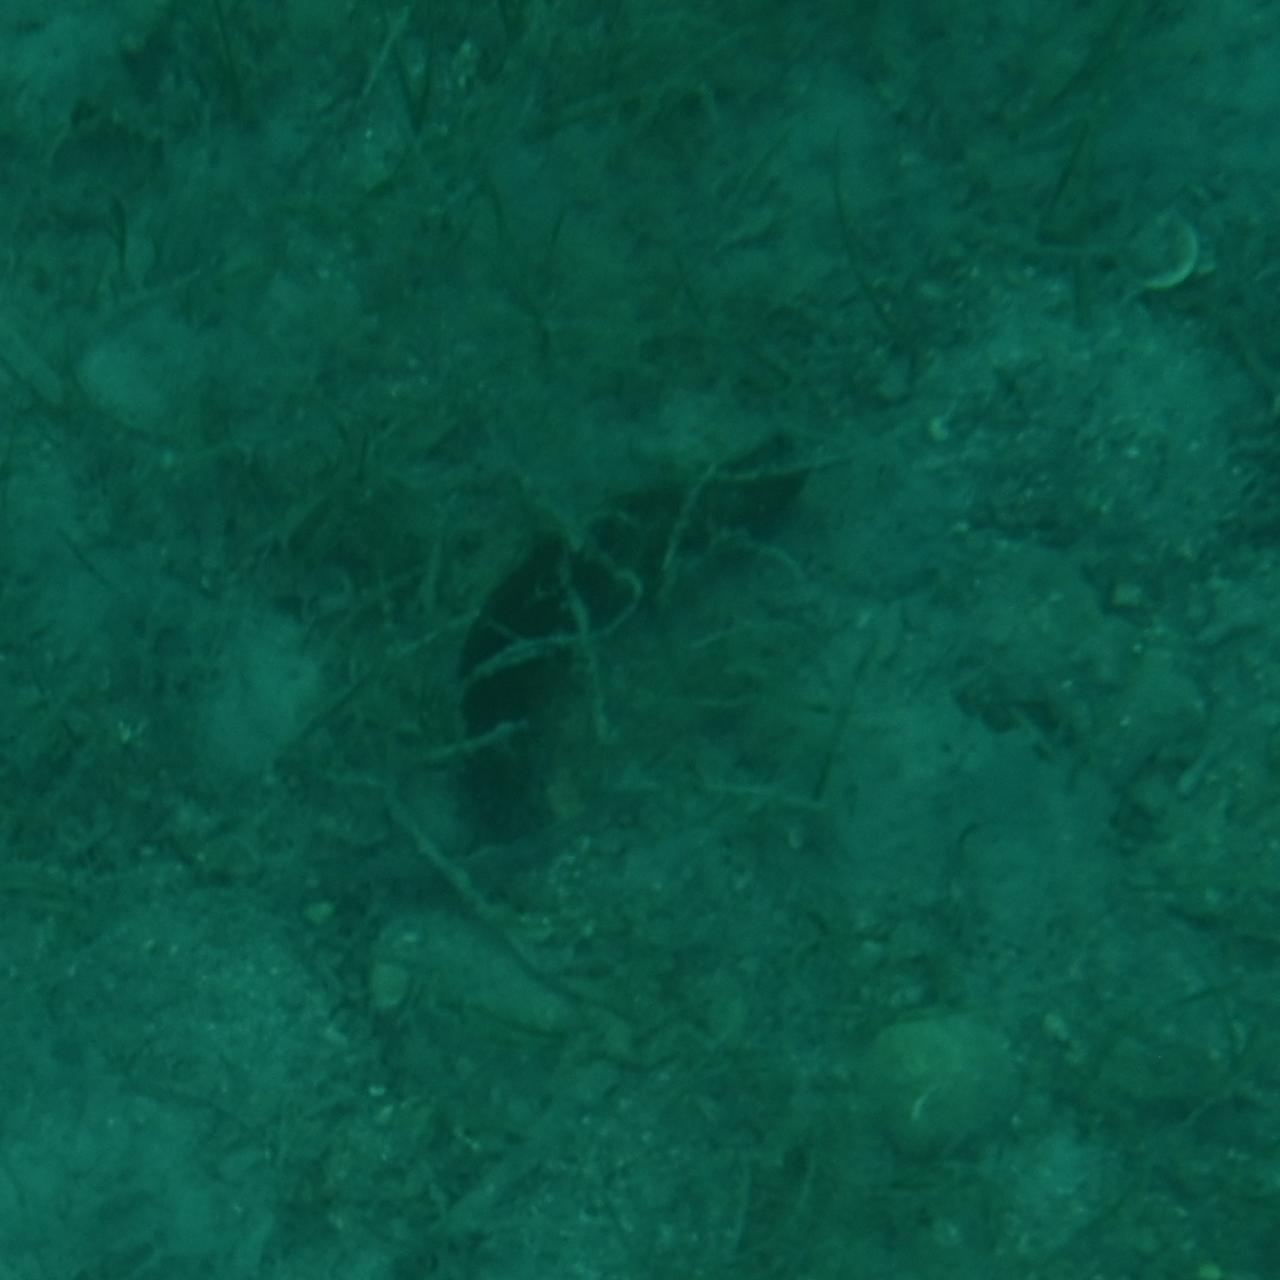Holothuria tubulosa: (447, 427, 833, 853)
